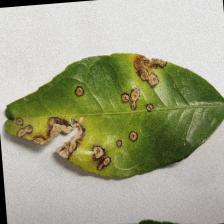canker: (6, 56, 170, 180)
